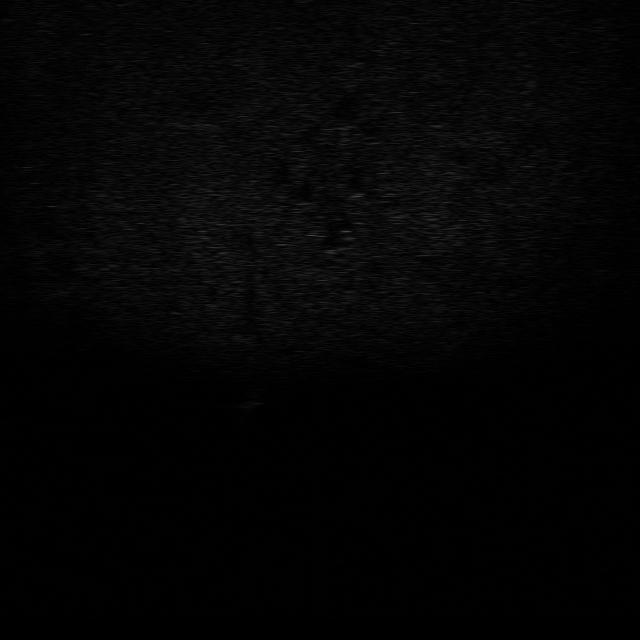human body: (235, 376, 266, 424)
